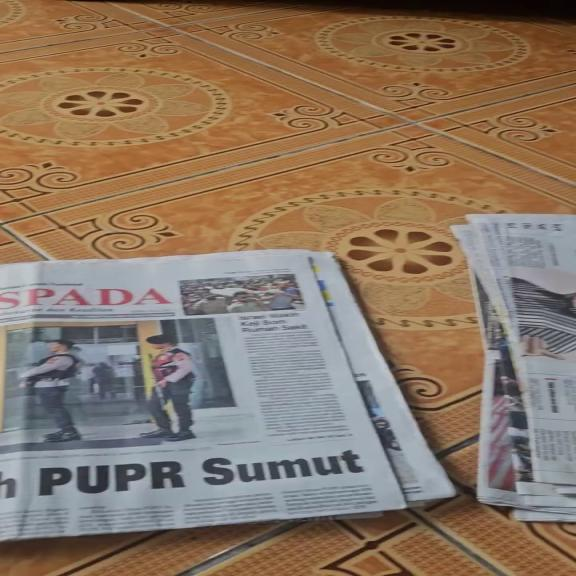Kertas: (6, 251, 332, 517), (454, 219, 574, 515)
